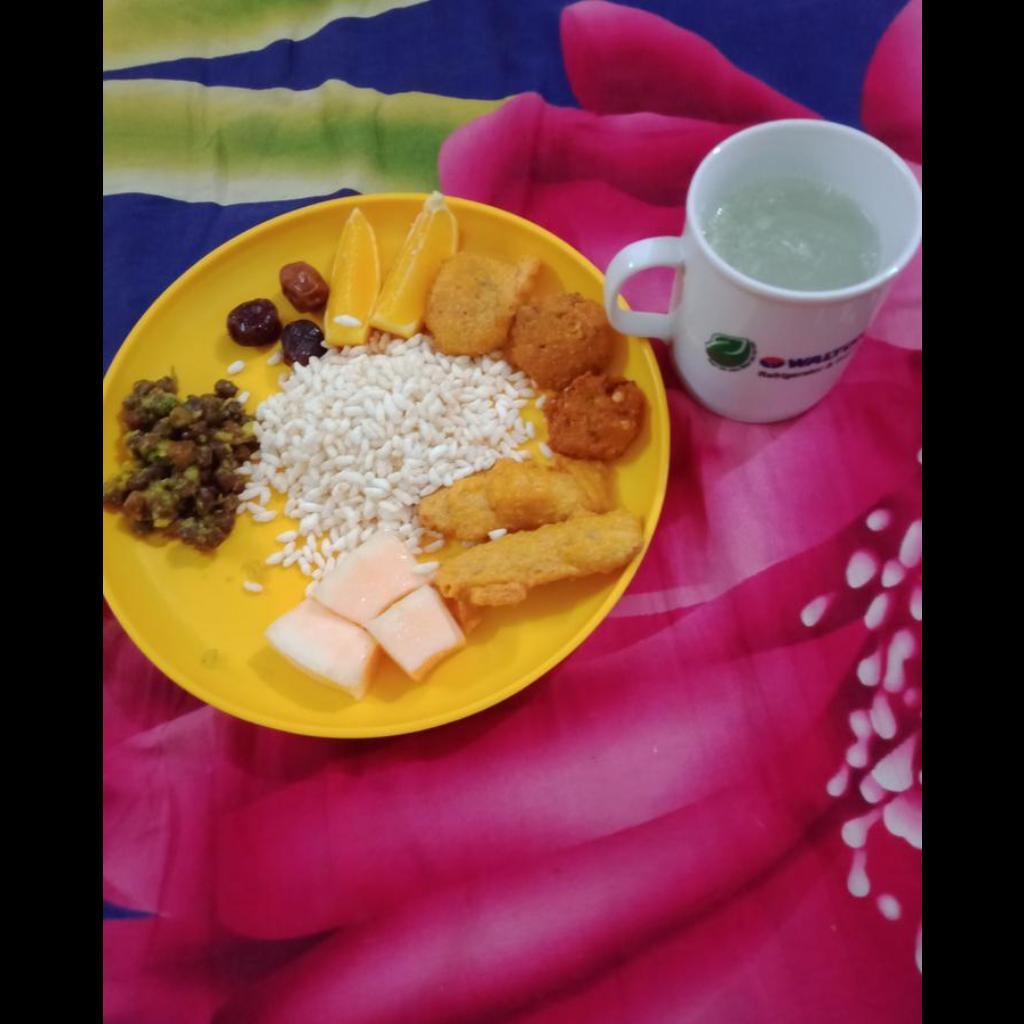beguni: (417, 456, 640, 606)
chola: (102, 378, 257, 550)
chop-alu: (437, 257, 602, 380)
dates: (226, 299, 325, 364), (279, 262, 327, 313)
juice: (716, 179, 875, 289)
lemon: (323, 189, 459, 347)
mango: (262, 534, 466, 702)
peyaju: (542, 368, 645, 451)
puffed-rice: (241, 336, 540, 577)
